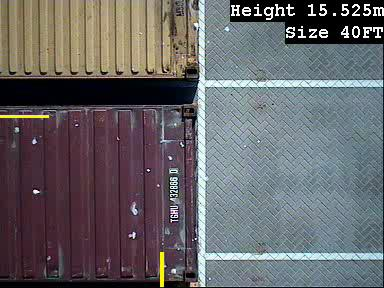groundmarker_2: (189, 18, 254, 120)
